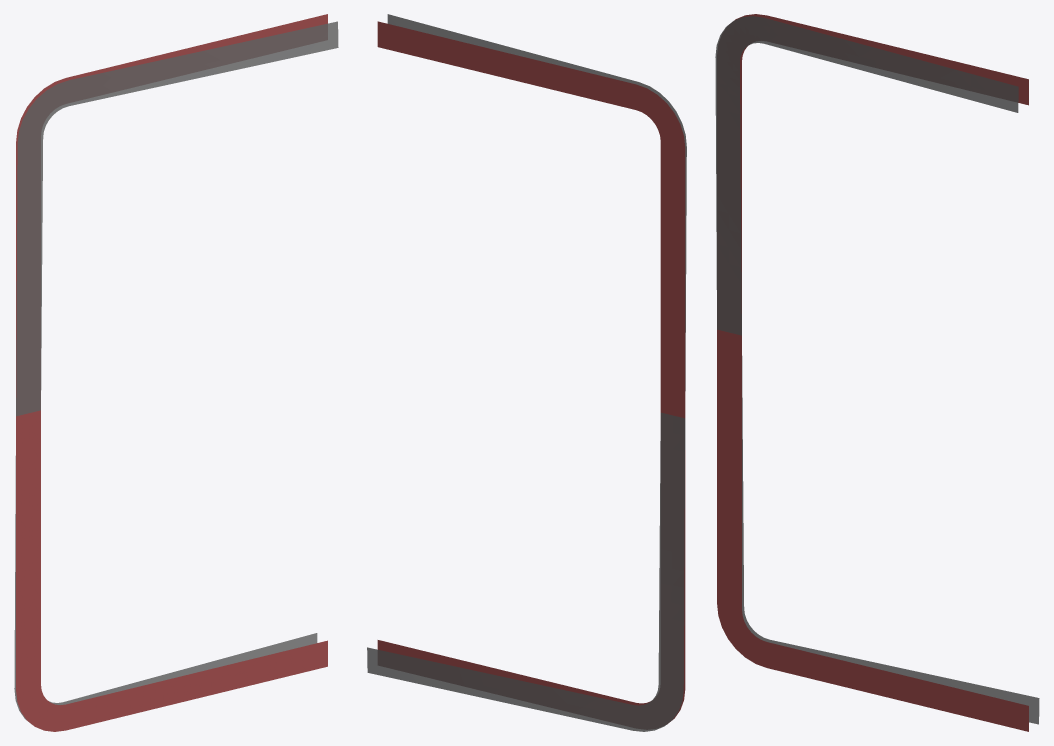
File: warping-cold-formed-u-100-50-4-8-8-385.glb
The picture shows the model from 3 angles, left to right: view 1: azimuth 30°, elevation 25°; view 2: azimuth 150°, elevation 25°; view 3: azimuth 330°, elevation 25°; orthographic projection.
Parts seen in each view (by area): view 1: undeformed cross-section, cross-section with warping; view 2: undeformed cross-section, cross-section with warping; view 3: undeformed cross-section, cross-section with warping.
Part boxes in pixels (box(x1,y1,x2,y2)): undeformed cross-section: box(16, 14, 327, 731); cross-section with warping: box(14, 21, 338, 724); undeformed cross-section: box(377, 21, 685, 727); cross-section with warping: box(367, 14, 686, 731); undeformed cross-section: box(717, 14, 1028, 731); cross-section with warping: box(715, 16, 1039, 724).
Size of the model in its own units: 0.05 by 0.1 by 0.00589.
